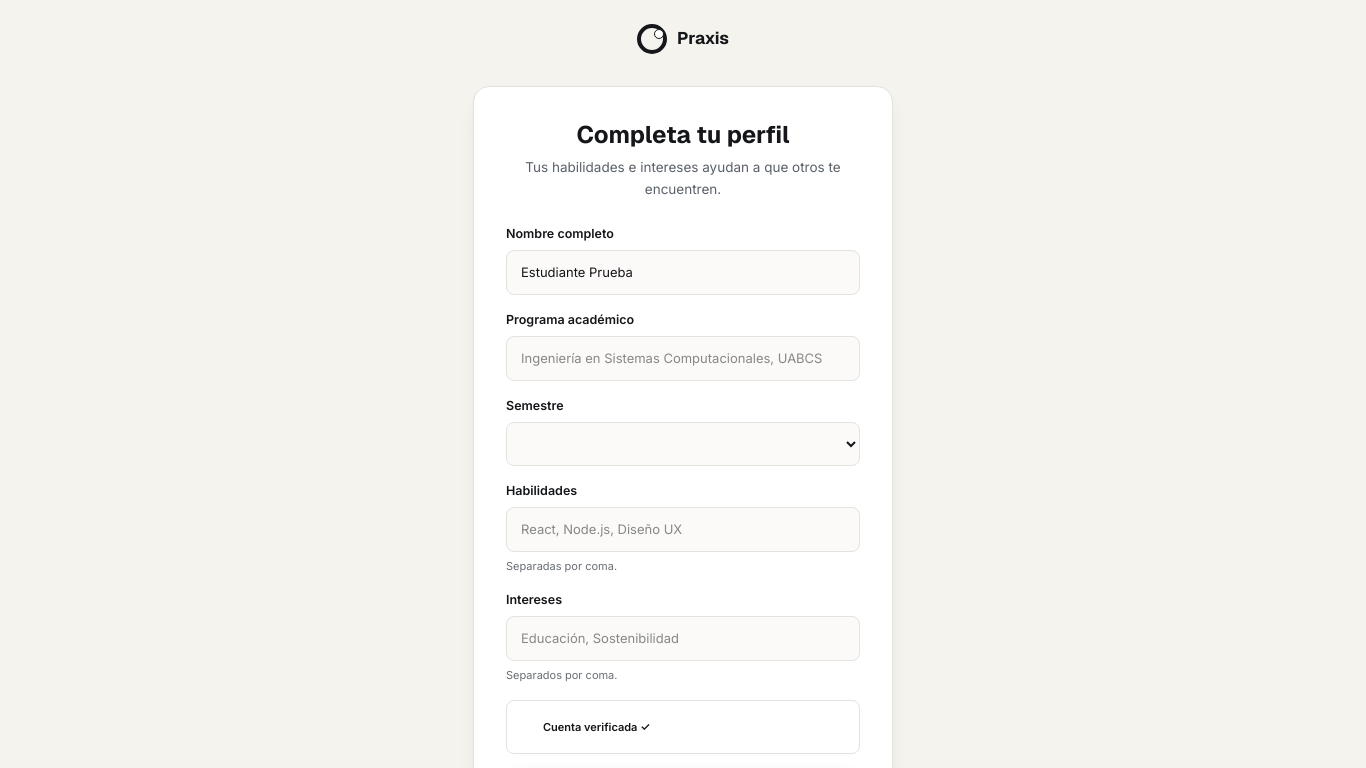
EditProfile — submit › trims and splits comma-separated skills/interests, then redirects on success
Type "React,  , Diseño UX ," into the field with placeholder "React, Node.js, Diseño UX" at (683, 530), box [506,507,860,552]
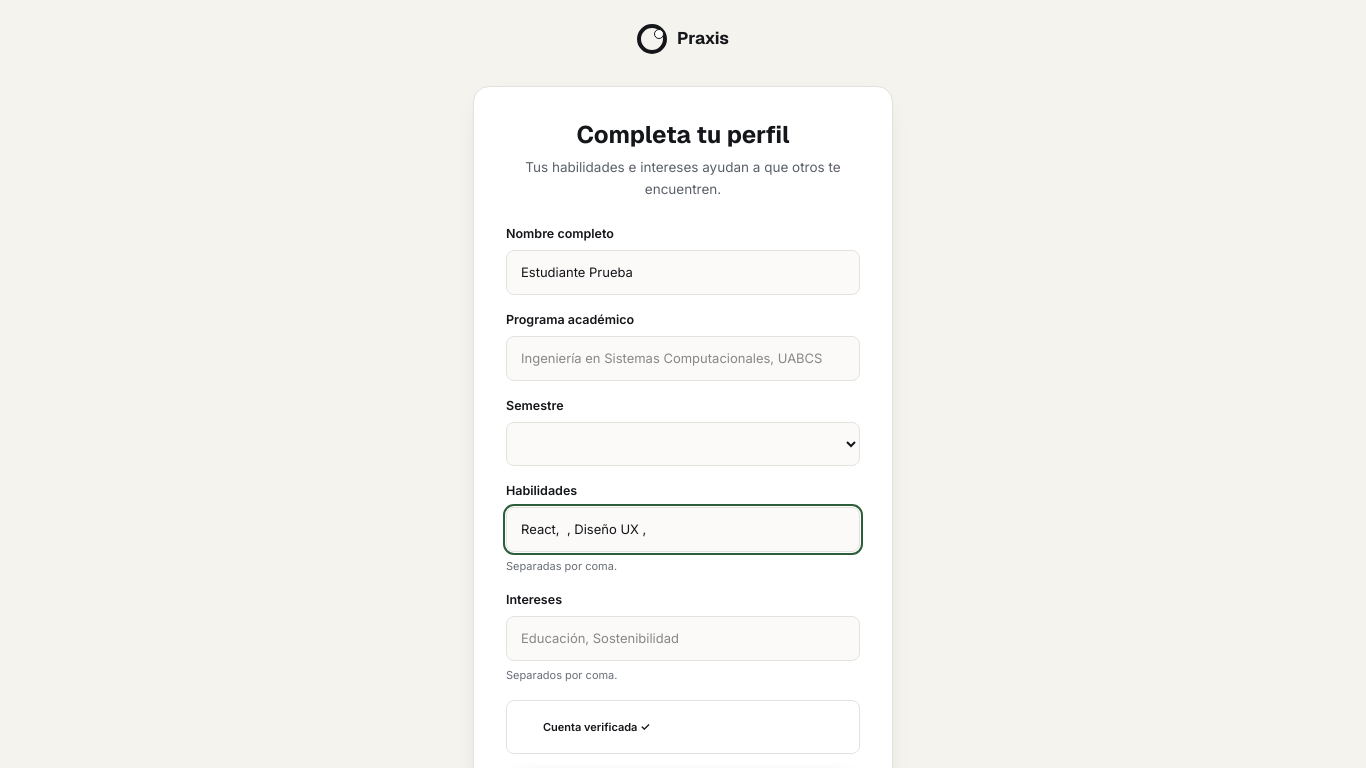
Type " Educación " into the field with placeholder "Educación, Sostenibilidad" at (683, 638), box [506,616,860,661]
(page scrolled)
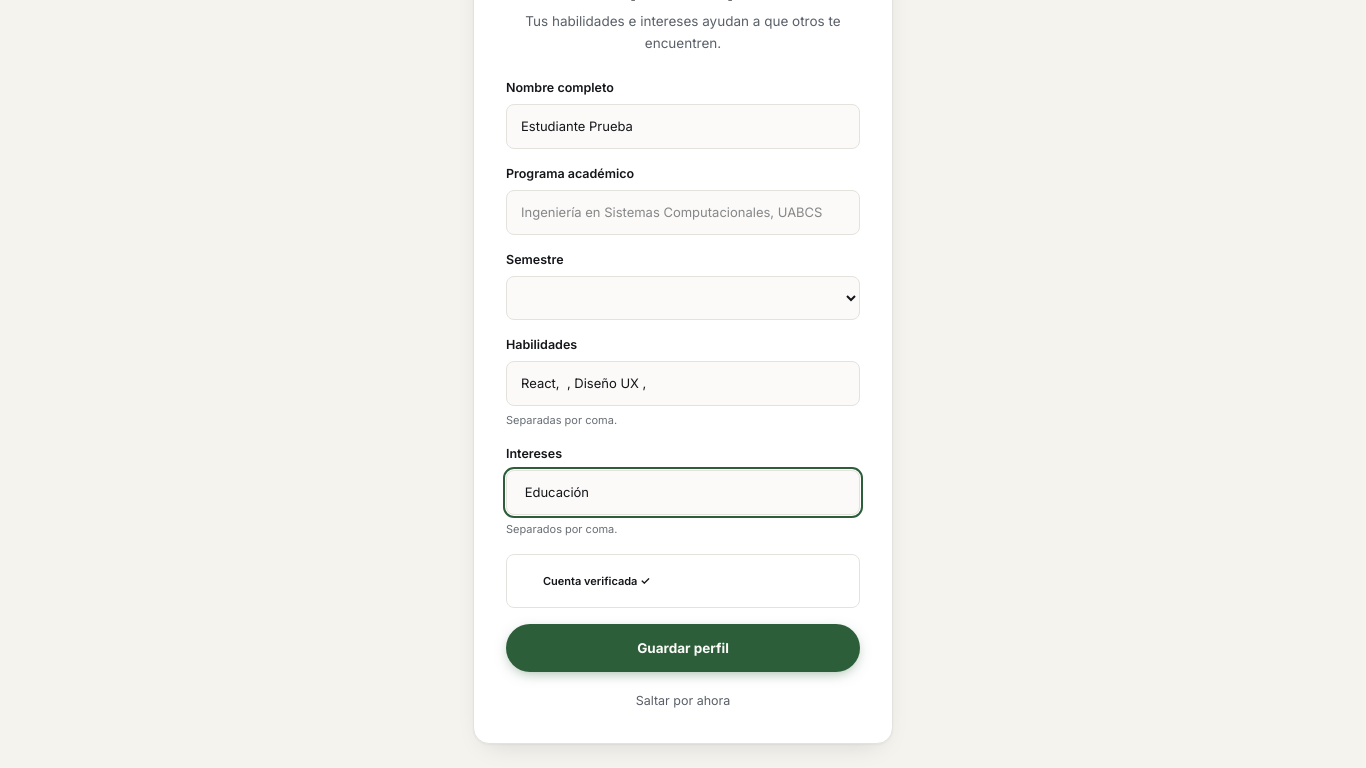
Click the button "Guardar perfil" at (683, 648), box [506,624,860,672]
(page scrolled)
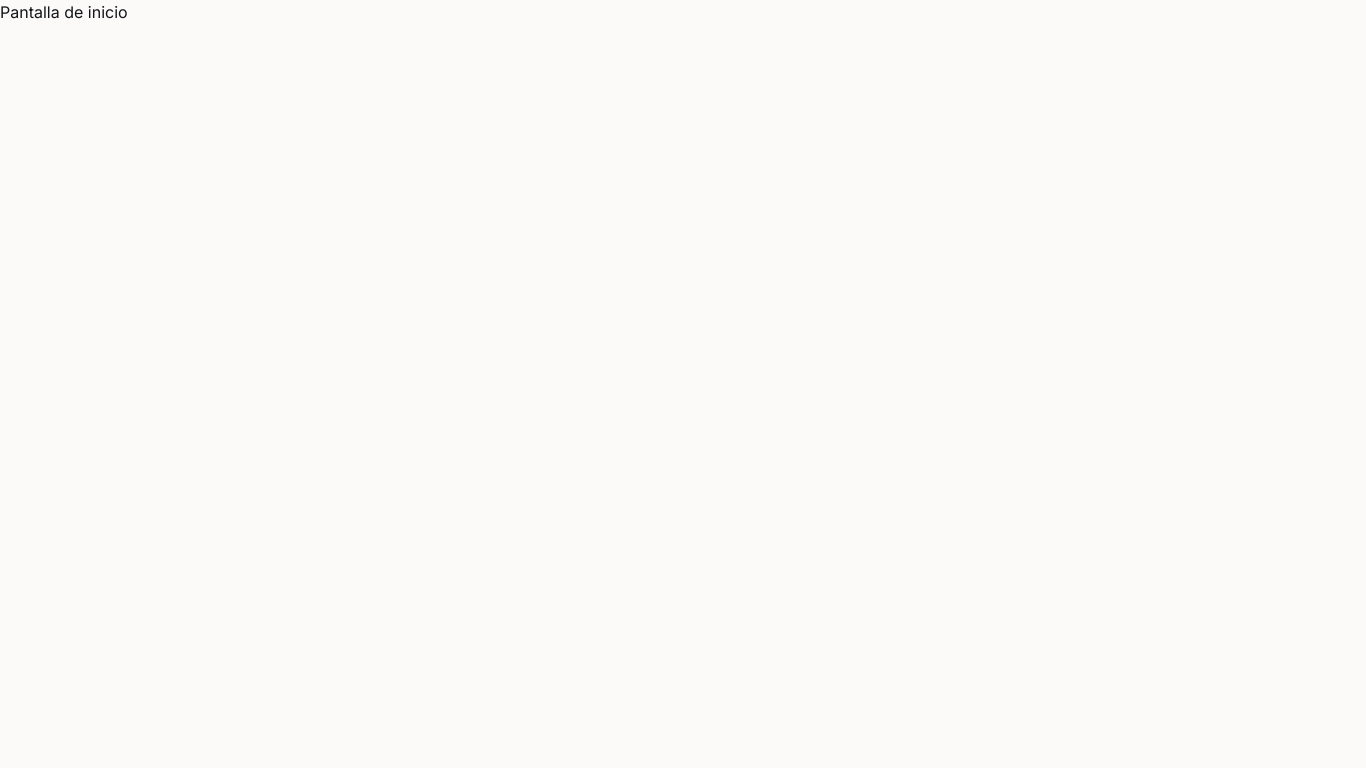
expect the text "Pantalla de inicio" is shown: met, box [0,2,128,22]
